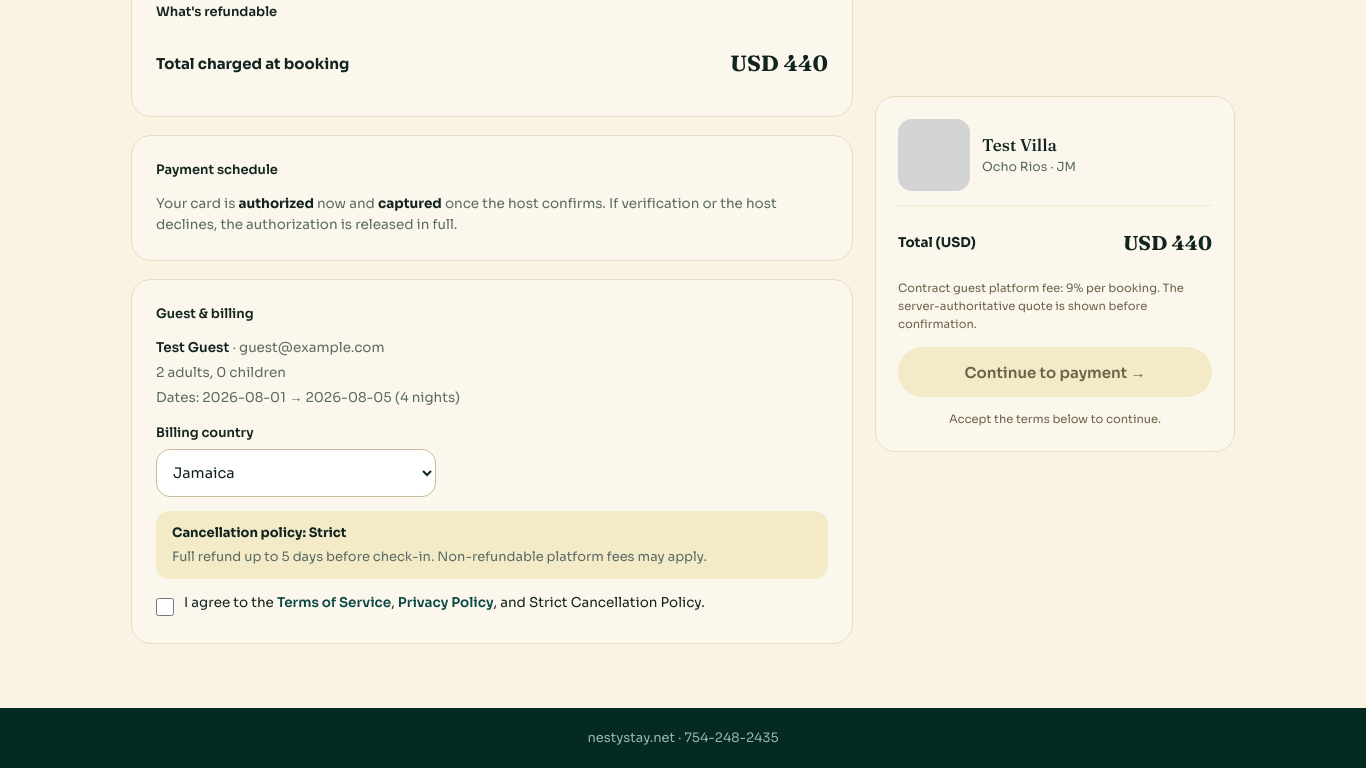
Test: Booking Screens (BOOK-01 to BOOK-10) › BOOK-01 & BOOK-02: Guest Selection & Review › shows a human-readable retry message for booking rate limits
This screenshot has width=1366, height=768.
(page scrolled)
Click the checkbox at (165, 607), box [156,595,174,619]
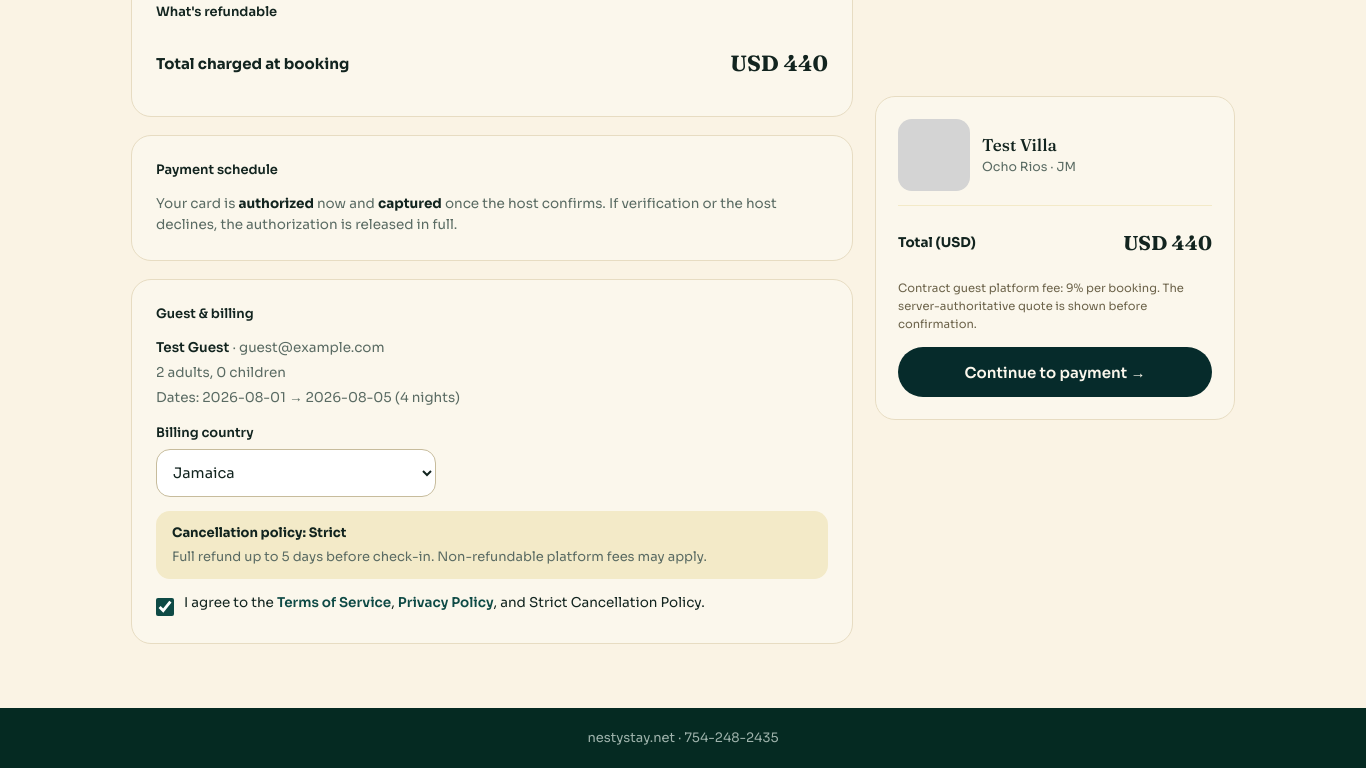
Click the button "Continue to payment →" at (1055, 372), box [898,347,1212,397]
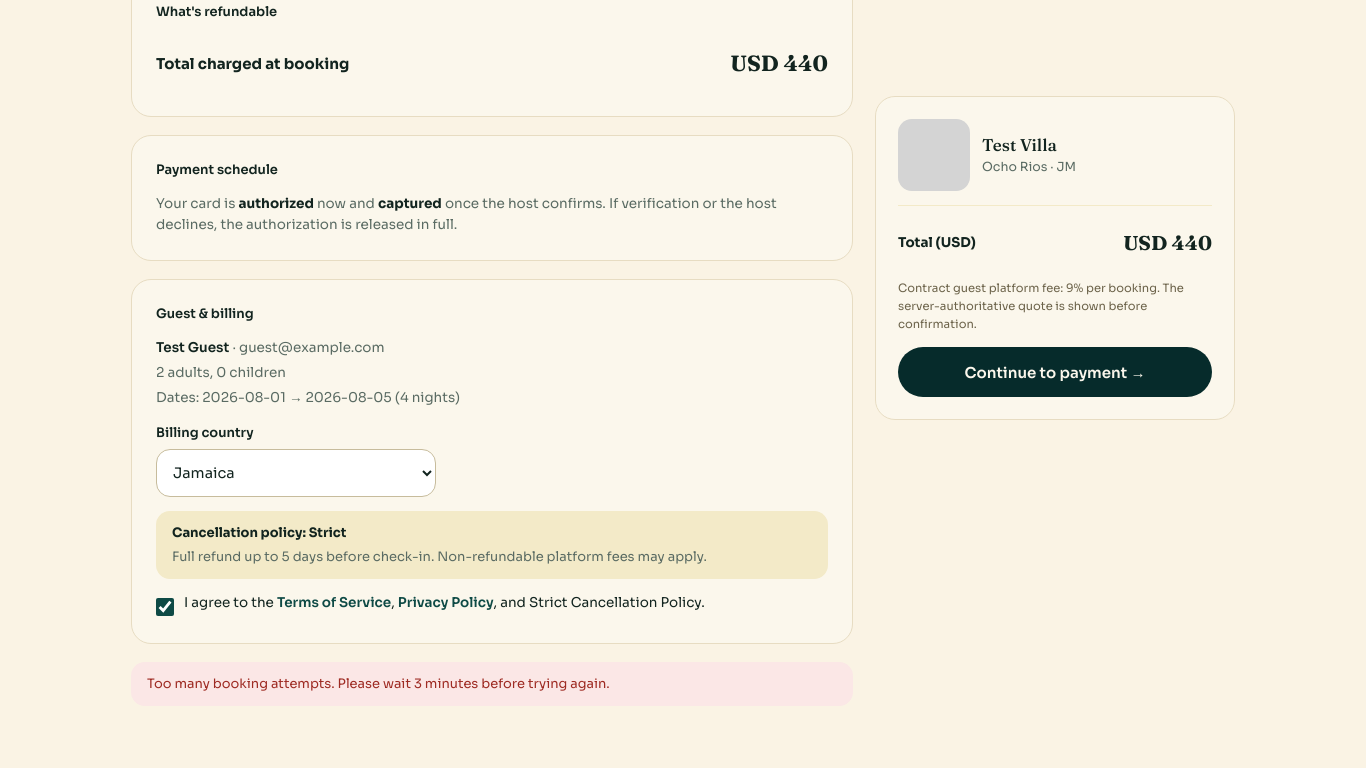
Expected: the text "Too many booking attempts. Please wait 3 minutes before trying again." is shown, [131,662,853,706]
